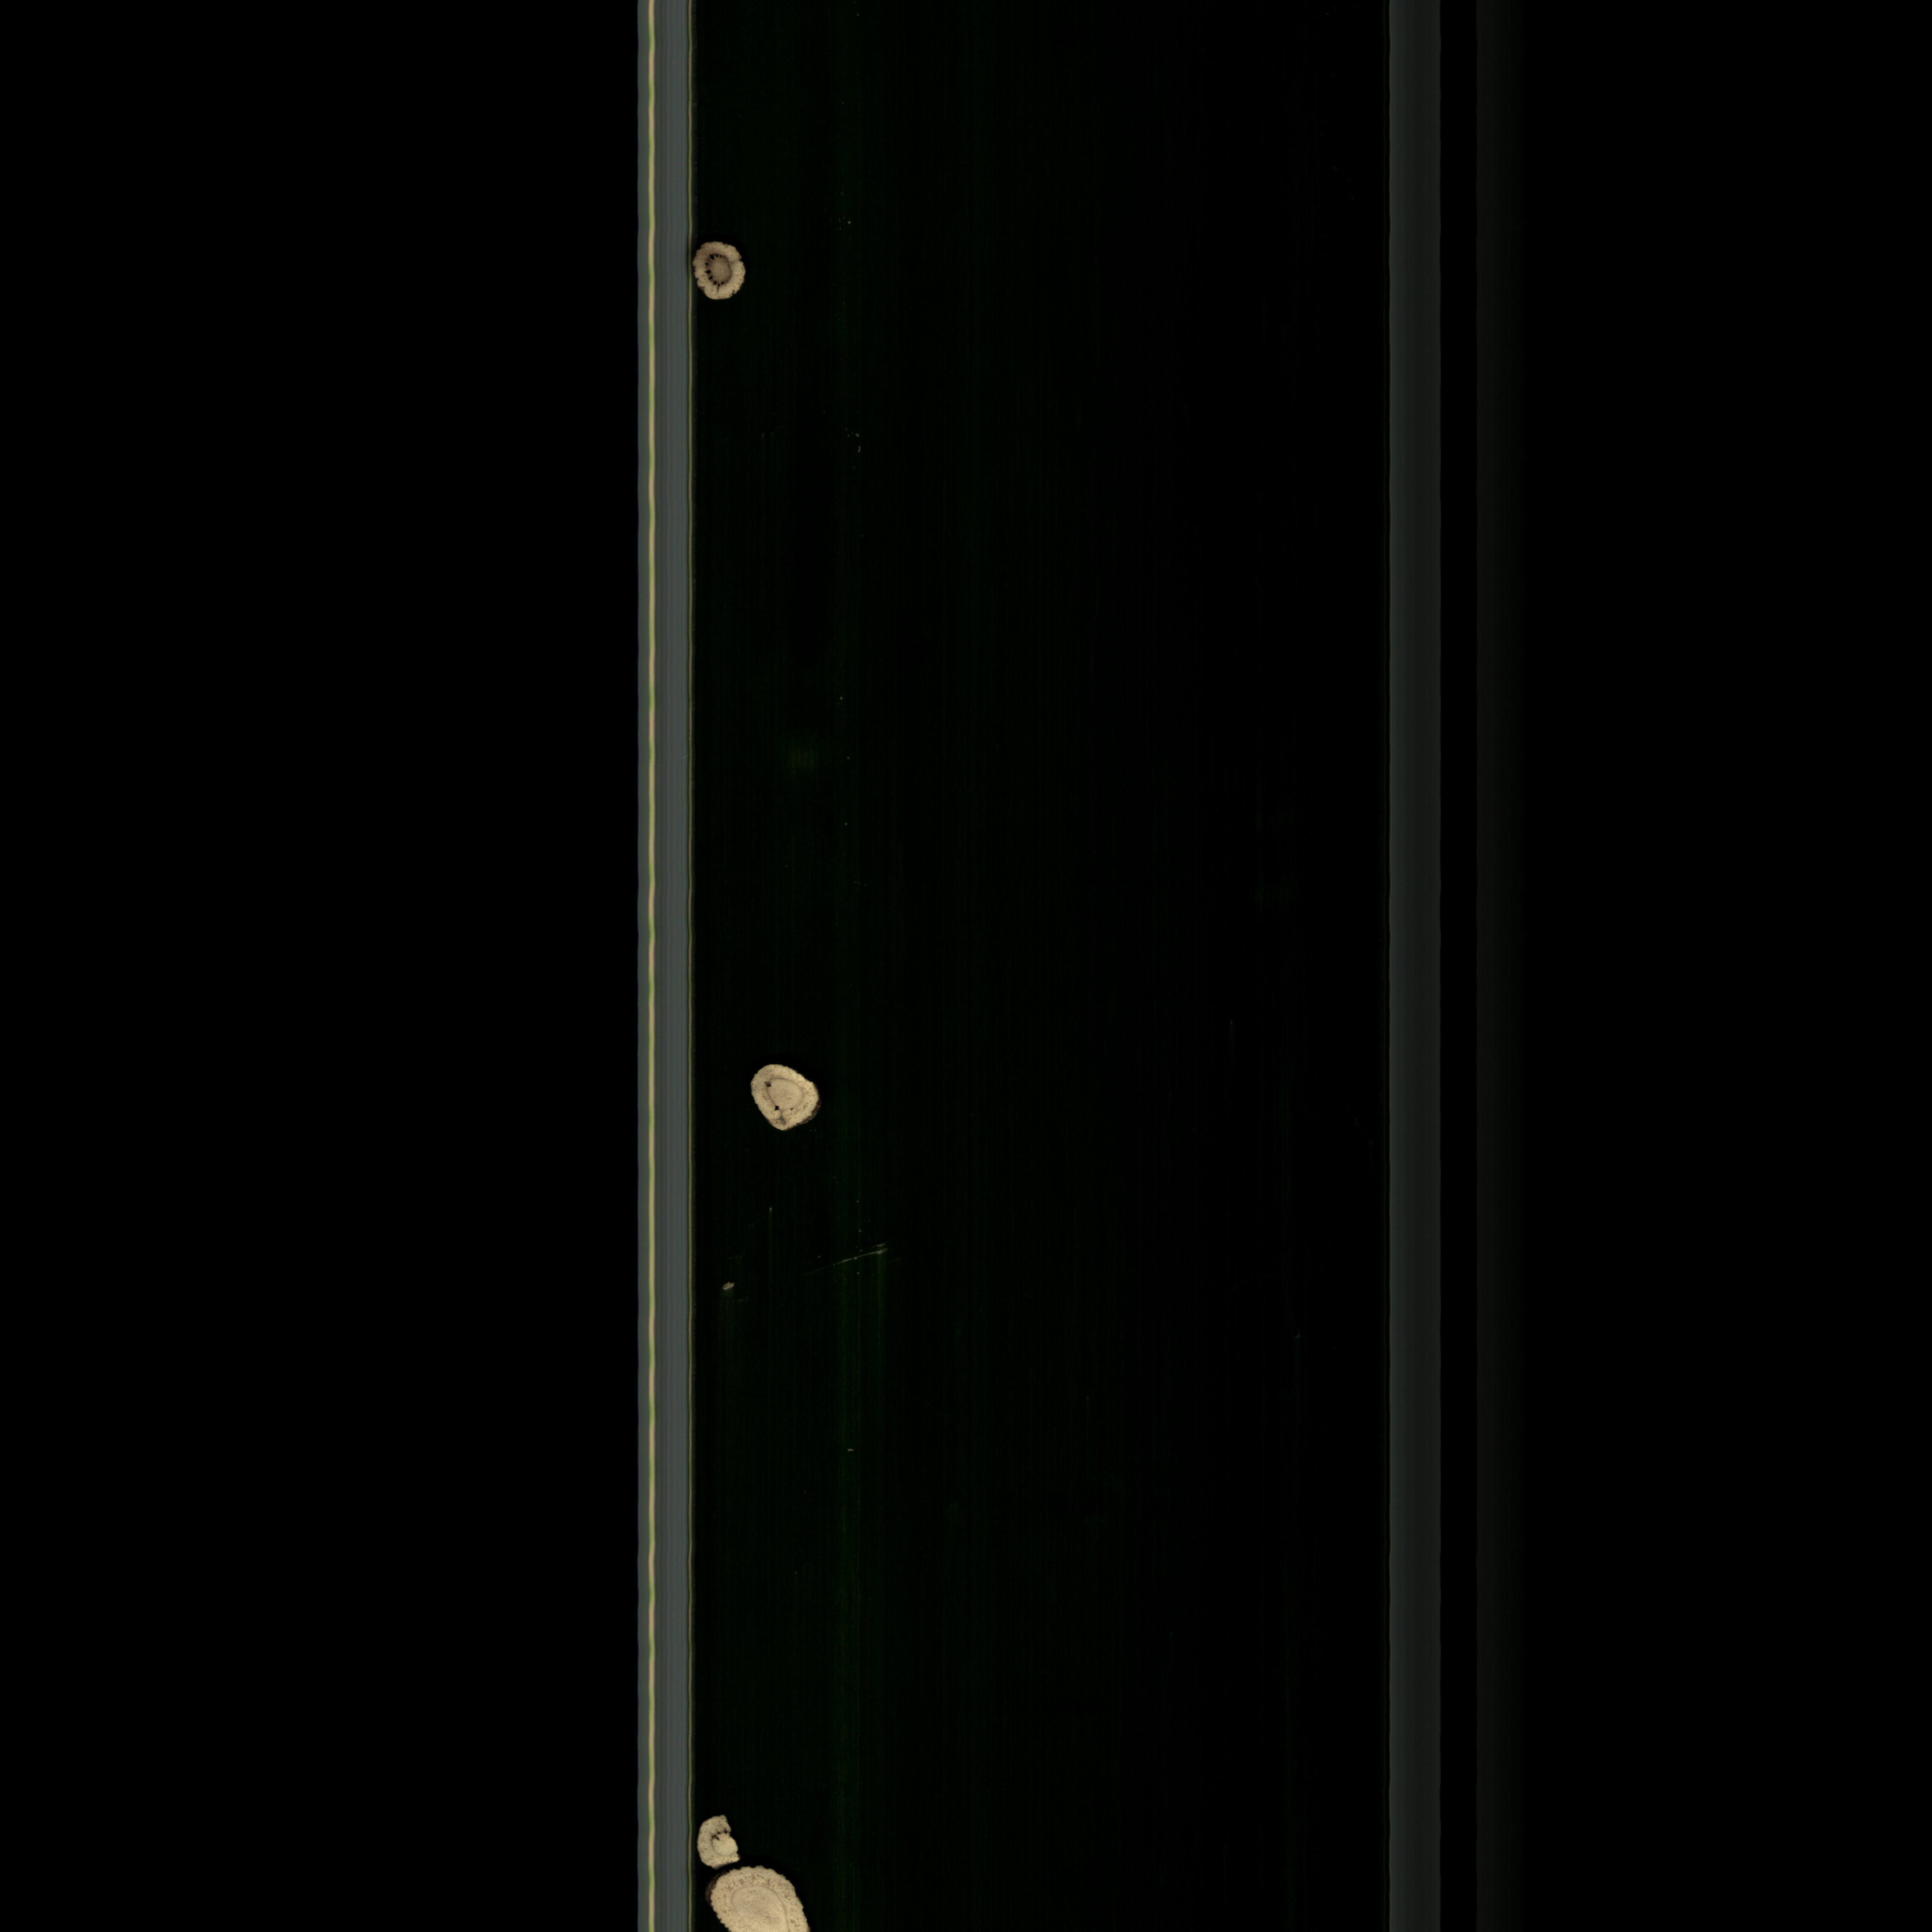debris: (692, 1812, 747, 1868)
hole: (747, 1056, 835, 1134)
moldy: (690, 235, 759, 306)
